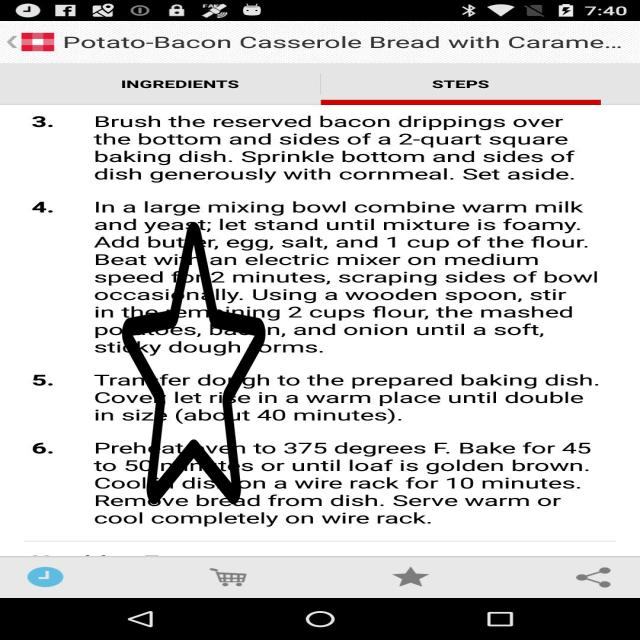forced continuity: (122, 216, 266, 510)
